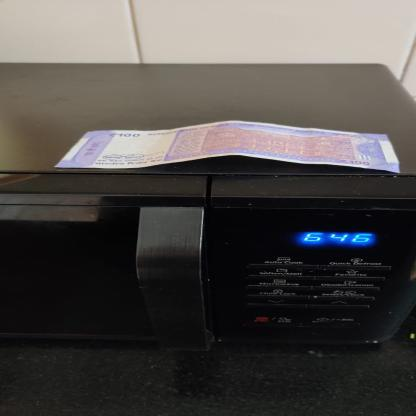New100Back: (55, 120, 404, 173)
